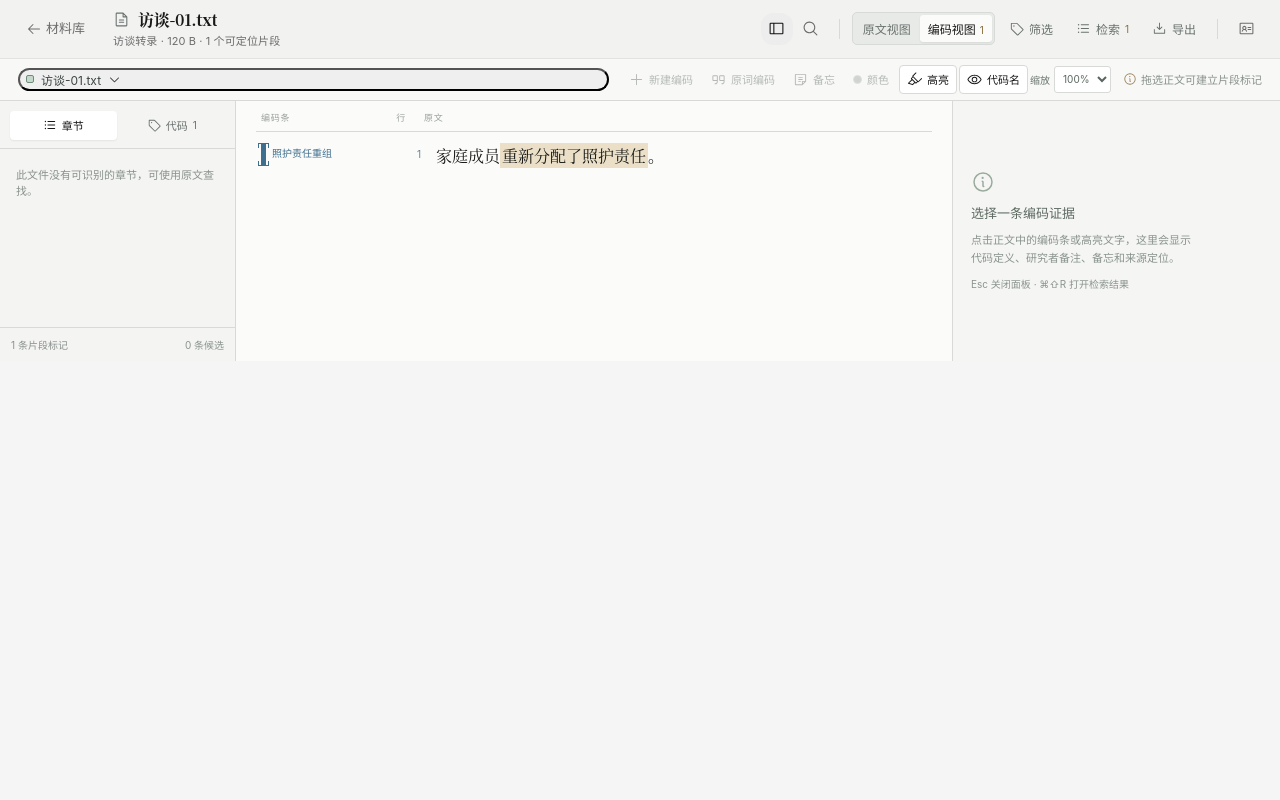
Test: coded document workbench › opens the evidence inspector from a coding stripe
Click the button with aria-label "照护责任重组 · 已确认": (316, 154) [261,143,372,166]
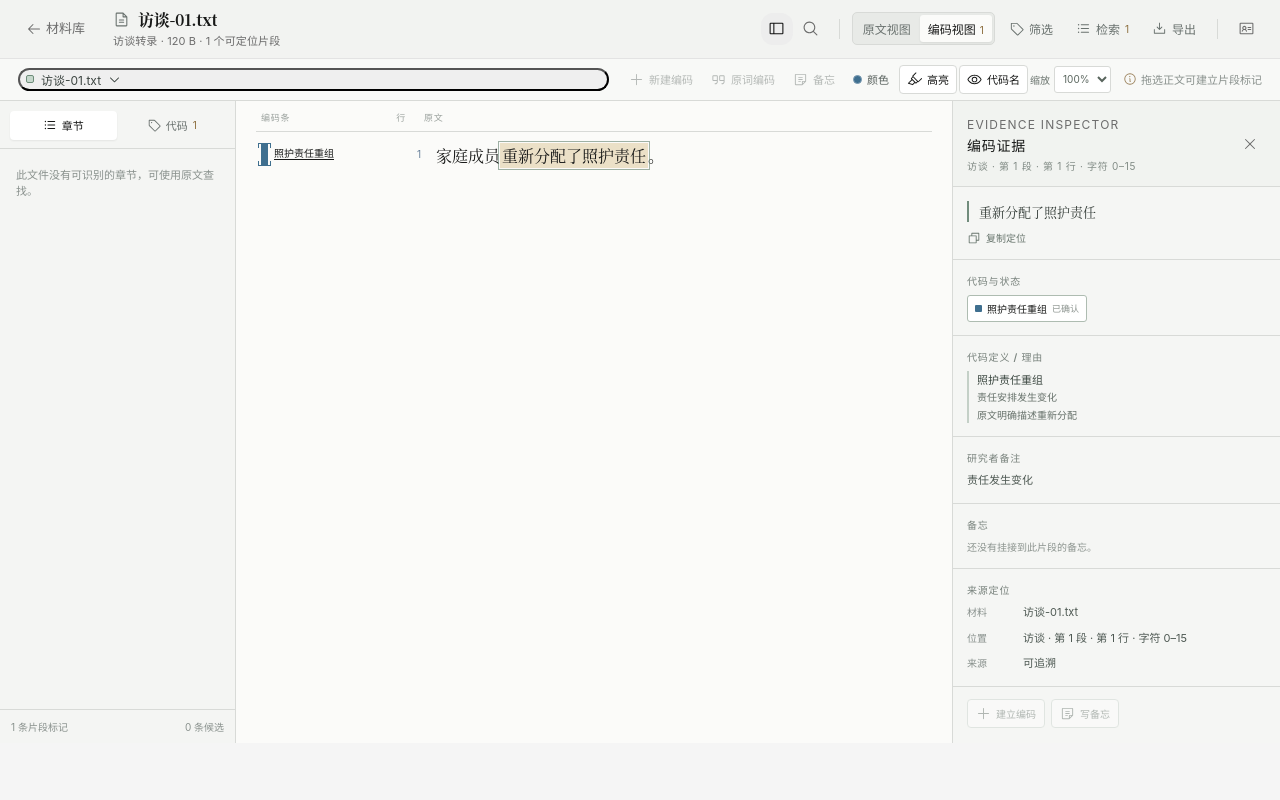
Expected: the text "重新分配了照护责任" below "编码证据" is shown, [979,202,1096,221]
Expected: the text "责任发生变化" is shown, [967,473,1033,487]
